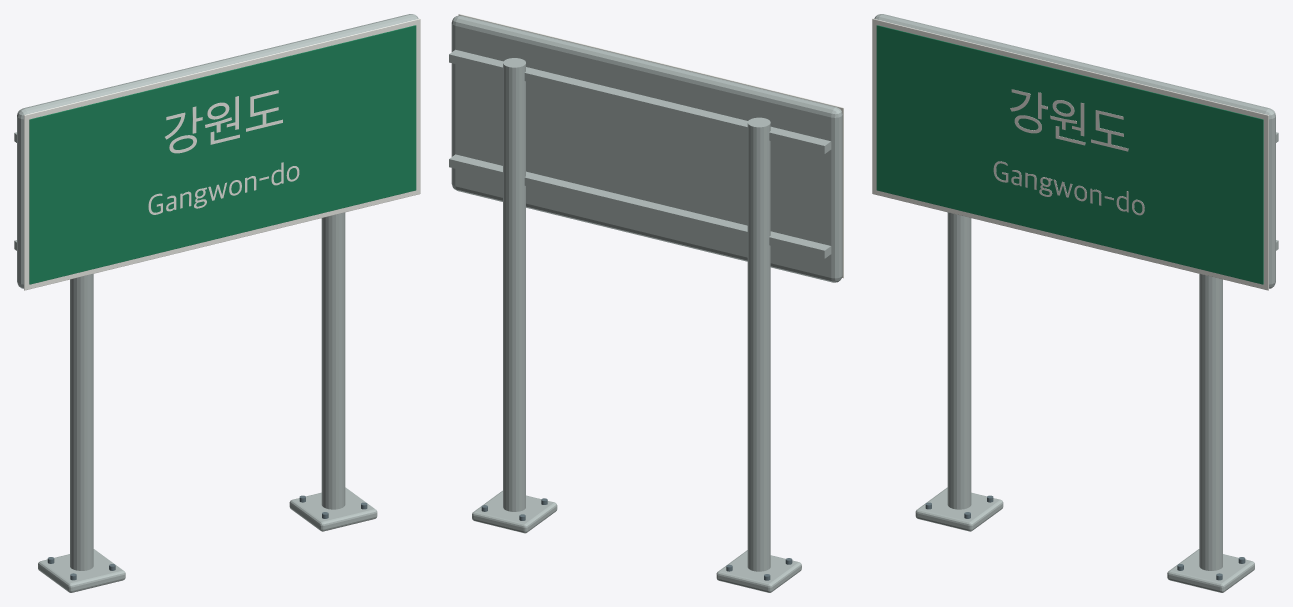
File: SIMUS_KGuide_Boundary.glb
3 renders of one model, left to right at view 1: azimuth 30°, elevation 25°; view 2: azimuth 150°, elevation 25°; view 3: azimuth 330°, elevation 25°, orthographic. The views are drawn at different scales.
Parts seen in each view (by area): view 1: Green face, Support pole.001, Support pole, White perimeter, Aluminium sign back, Foot plate, Foot plate.001, Text 강원도, Text Gangwon-do; view 2: Aluminium sign back, Support pole, Support pole.001, Rear stiffener.001, Rear stiffener, Foot plate, Foot plate.001, White perimeter; view 3: Green face, Support pole, Support pole.001, White perimeter, Aluminium sign back, Foot plate.001, Foot plate, Text 강원도, Text Gangwon-do.
Part boxes in pixels (x1,y1,x2,y2): Green face: (29,25,416,284); Support pole.001: (321,212,345,509); Support pole: (70,274,93,570); White perimeter: (24,18,420,290); Aluminium sign back: (17,14,418,288); Foot plate: (38,549,125,592); Foot plate.001: (289,487,377,531); Text 강원도: (165,90,282,153); Text Gangwon-do: (148,162,299,214); Aluminium sign back: (451,15,842,282); Support pole: (747,117,770,571); Support pole.001: (503,58,525,511); Rear stiffener.001: (449,49,831,153); Rear stiffener: (449,154,831,258); Foot plate: (716,550,801,592); Foot plate.001: (472,490,557,533); White perimeter: (458,14,843,278); Green face: (876,25,1263,284); Support pole: (947,212,971,509); Support pole.001: (1199,274,1222,570); White perimeter: (872,18,1268,290); Aluminium sign back: (874,14,1275,288); Foot plate.001: (1167,549,1254,592); Foot plate: (915,487,1003,531); Text 강원도: (1010,89,1128,151); Text Gangwon-do: (993,161,1144,215).
Size of the model in its own units: 3.5 by 4.1 by 0.5.
